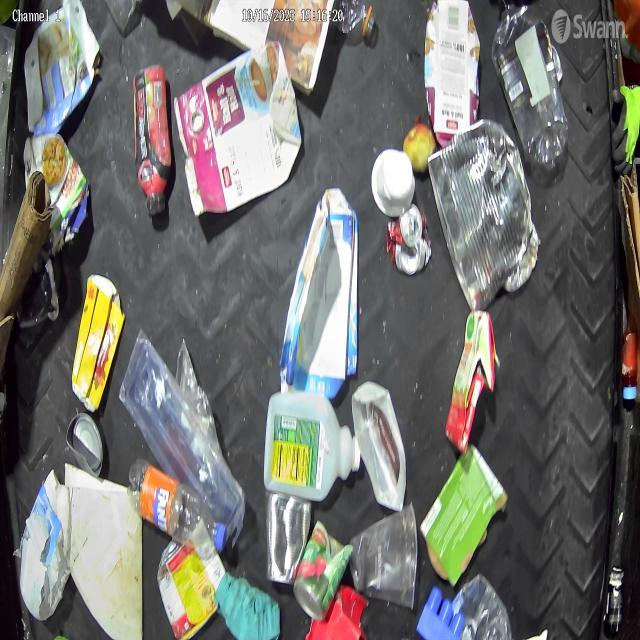can: (428, 118, 536, 314), (156, 522, 228, 640), (293, 519, 353, 622), (264, 491, 312, 584), (385, 199, 433, 275), (66, 411, 104, 478)
milk_jug: (20, 466, 73, 620), (350, 374, 408, 514)
non_white_jug: (262, 392, 361, 500)
plastic_bottle: (490, 0, 571, 173), (126, 456, 227, 556), (331, 0, 381, 47)
